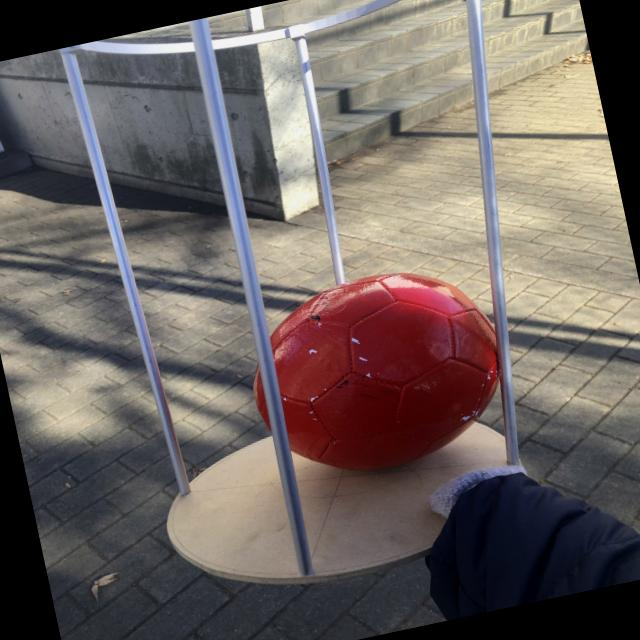red_ball: (235, 248, 518, 486)
